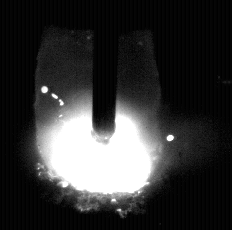arame: (94, 0, 117, 143)
poca: (36, 0, 164, 230)
